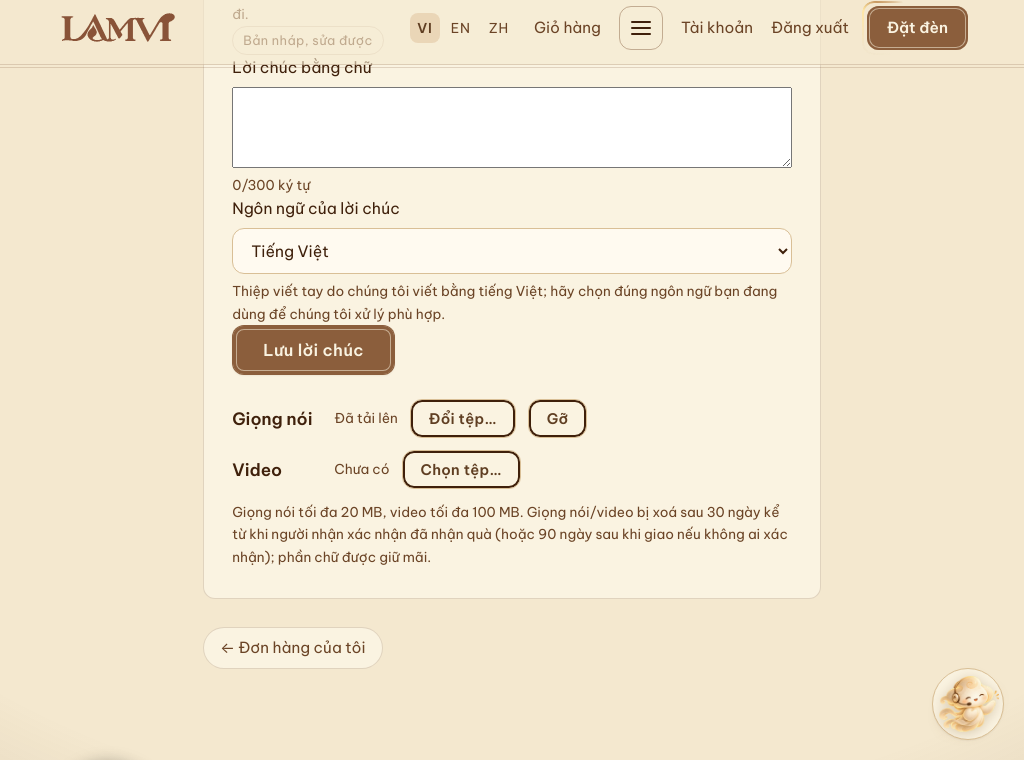
Scenario: Khung soạn lời chúc › tải giọng nói: xin URL → tải lên → gắn; hiện "Đã tải lên"; gỡ được
Earlier steps of the test are not shown.
(page scrolled)
Expected: the text box labelled "Lời chúc bằng chữ" is shown, [232,87,792,168]
Expected: the text "Đã tải lên" is shown, [334,407,398,430]
Click the button "Gỡ".
click(558, 419)  # box [528,399,587,438]
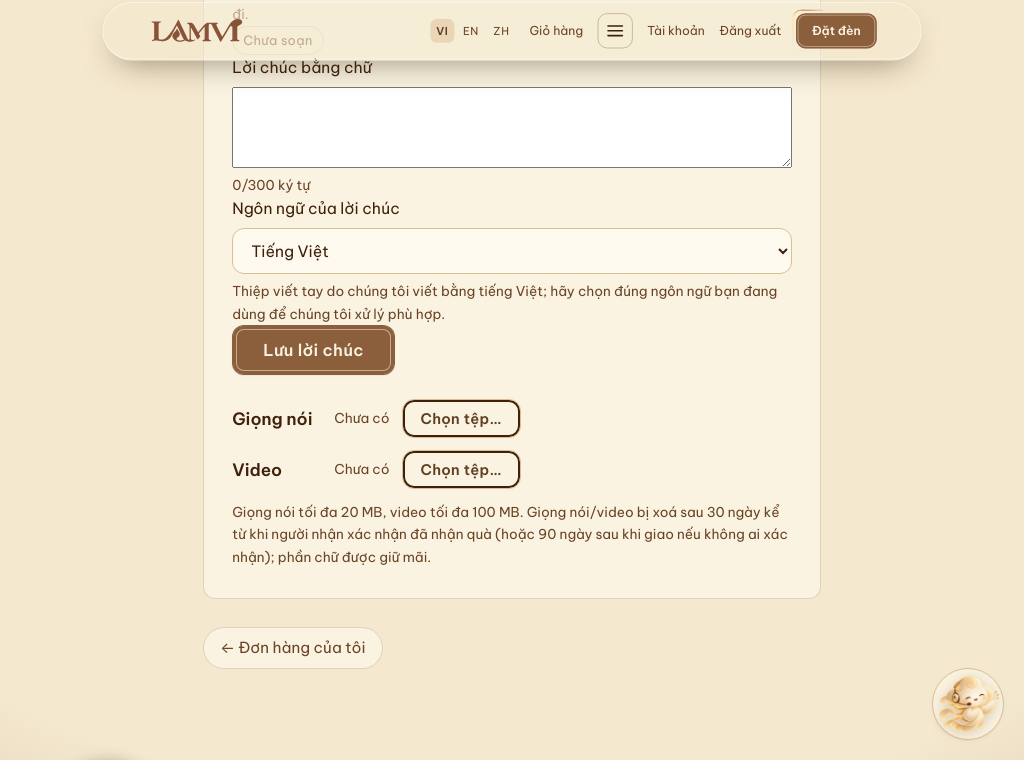
Expected: the button "Gỡ" is gone
